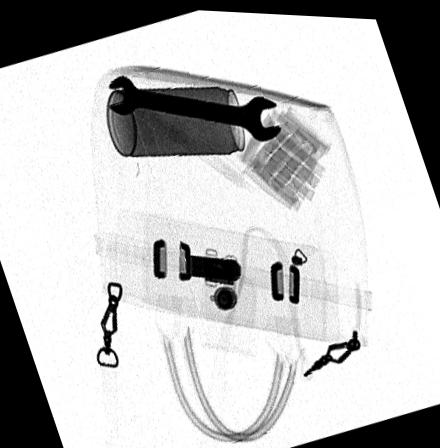Wrench: (106, 73, 283, 141)
